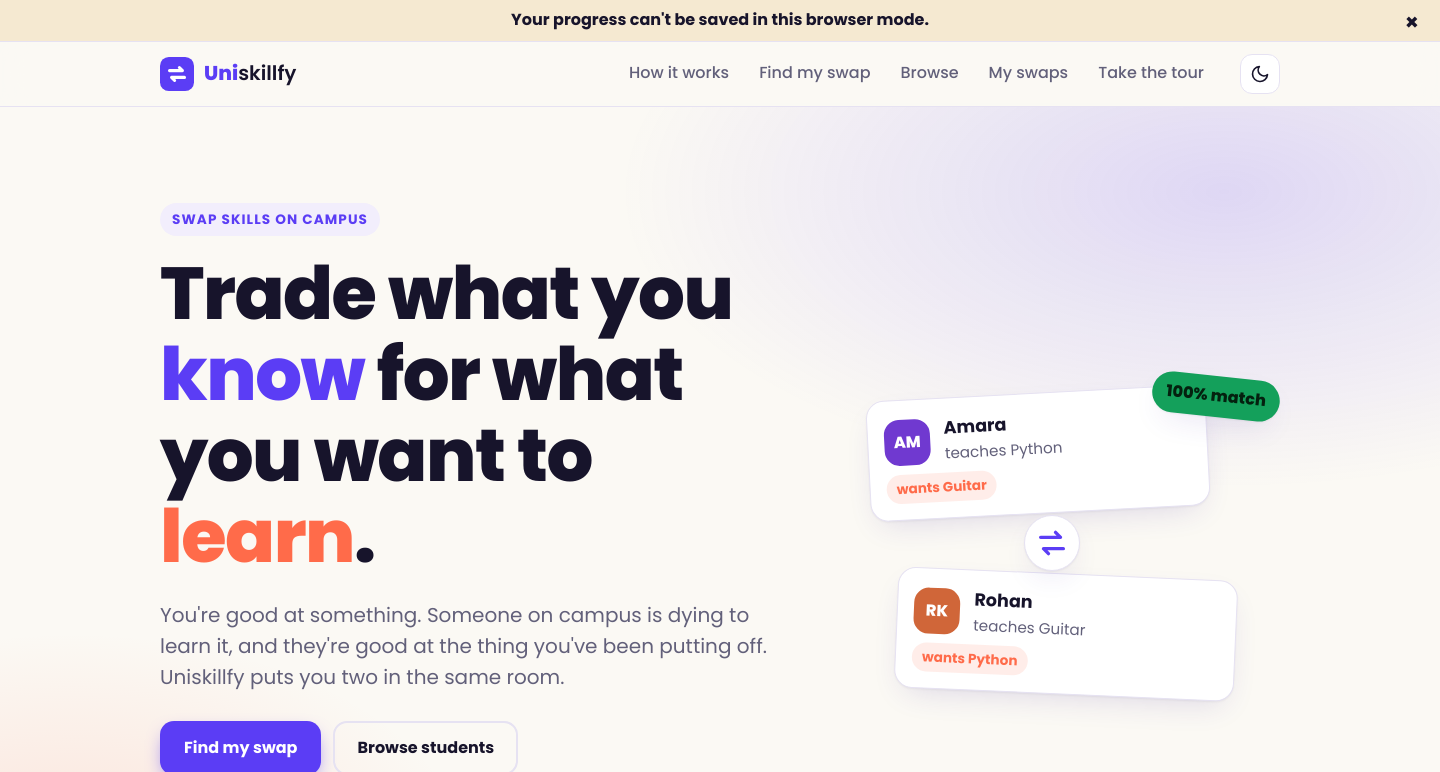
Test: app flow › shows a dismissible warning when localStorage cannot be written
Expected: the message shows "Your progress can't be saved in this browser mode.", [511,8,929,31]
What coordinates should you click on to do the following:
click the button named "Dismiss storage warning"
I would click on:
 (1412, 20)
Its box is [1396,4,1428,36].
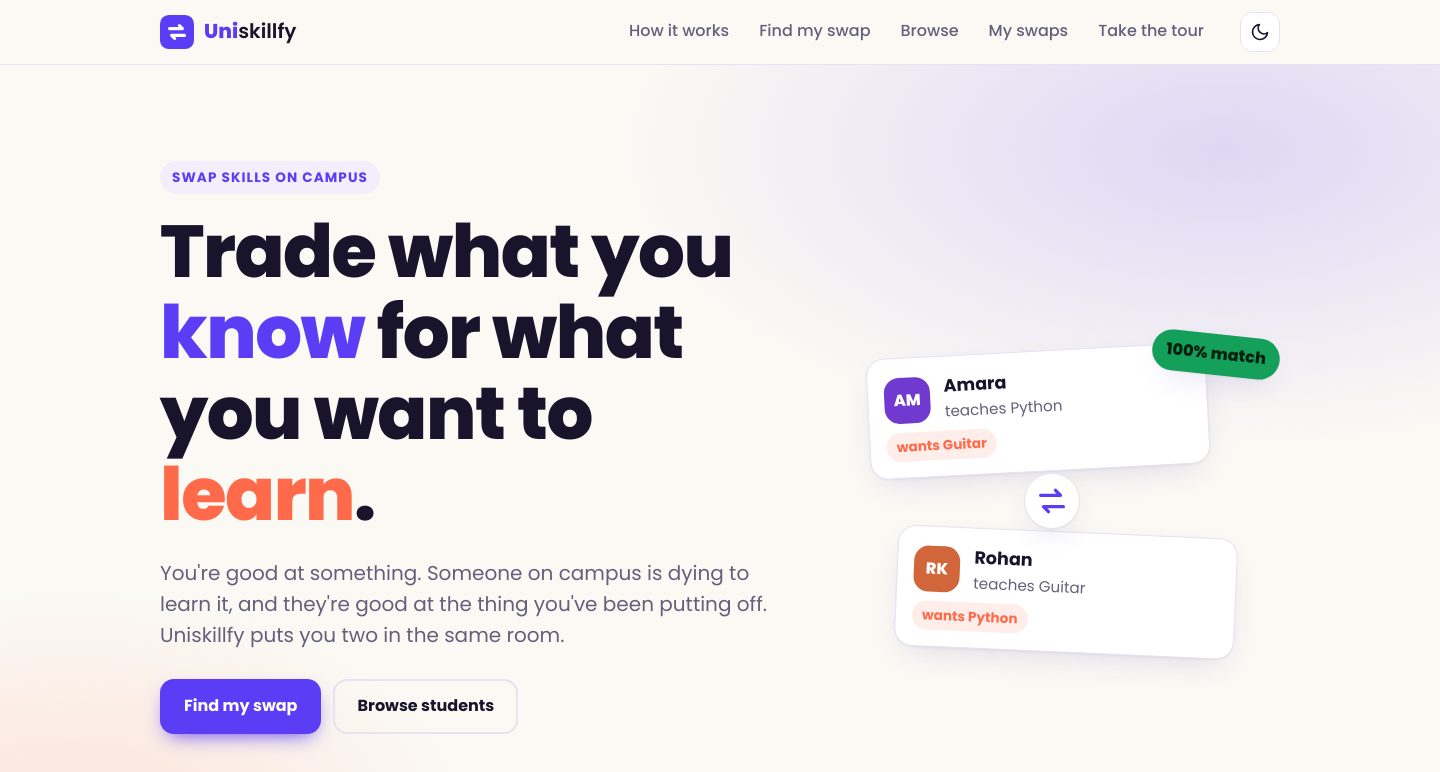
Now the text "Your progress can't be saved in this browser mode." is gone
